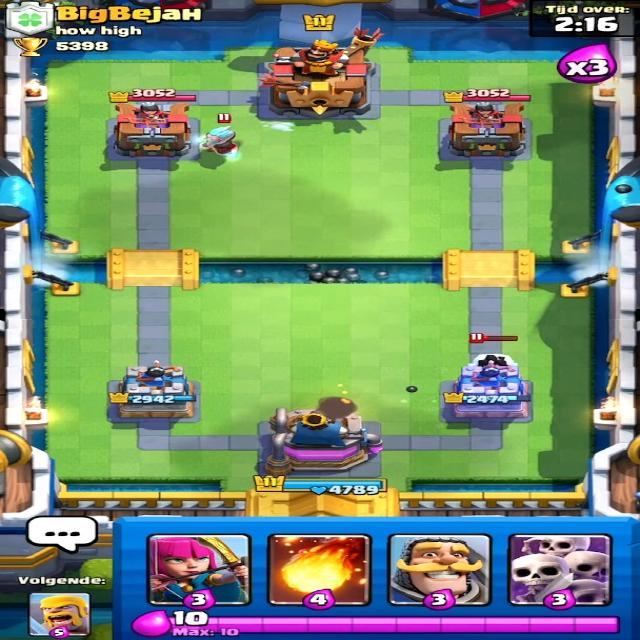Enemy_Ice_Wizard_Troop: (187, 121, 248, 164)
Fireball_Card: (265, 532, 370, 608)
